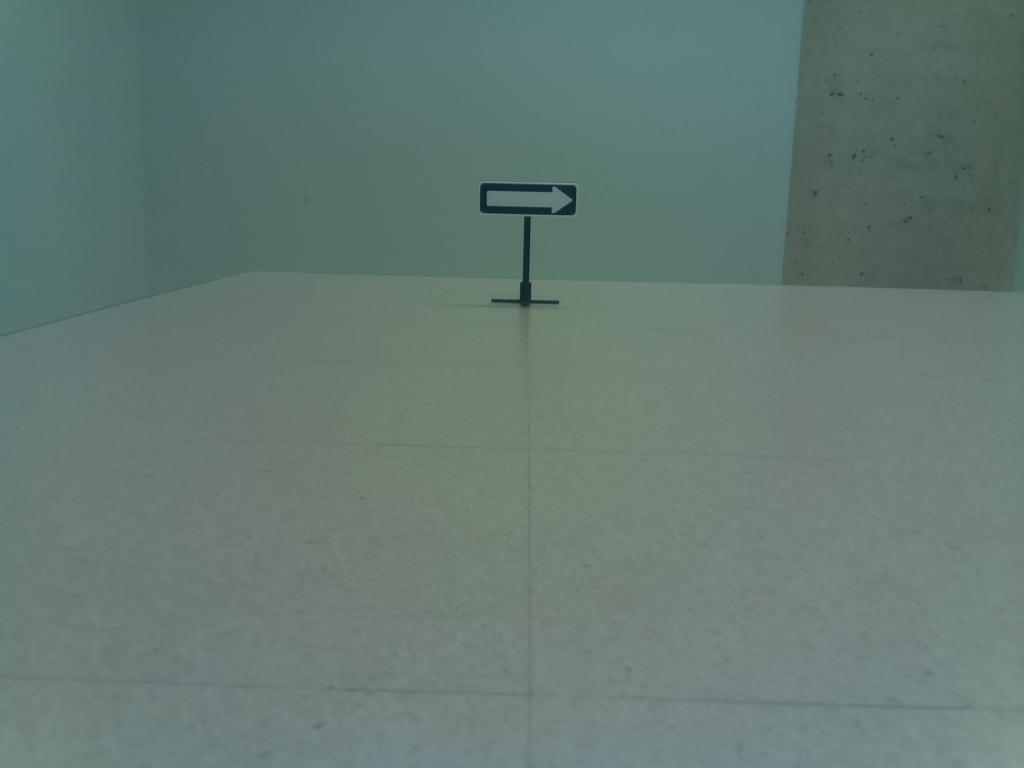sign_oneway_right: (475, 179, 583, 223)
